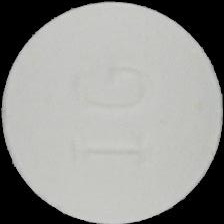53808-0632: (0, 0, 224, 224)
